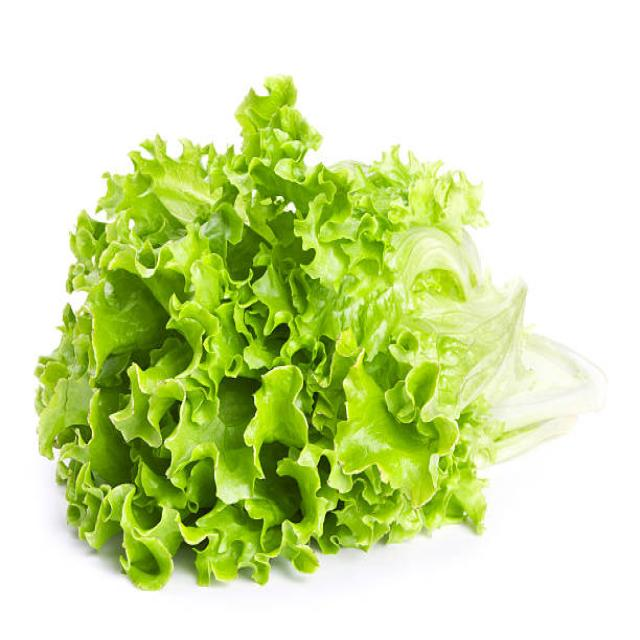Wet Waste: (35, 73, 570, 589)
